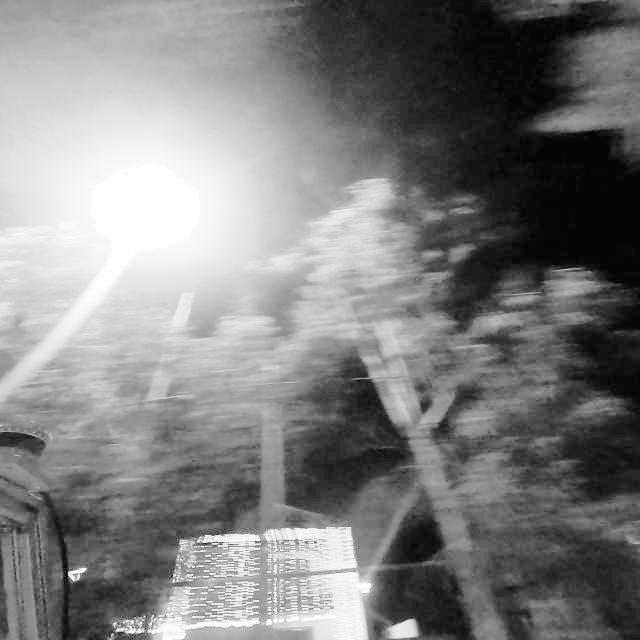Light: (83, 173, 204, 248)
